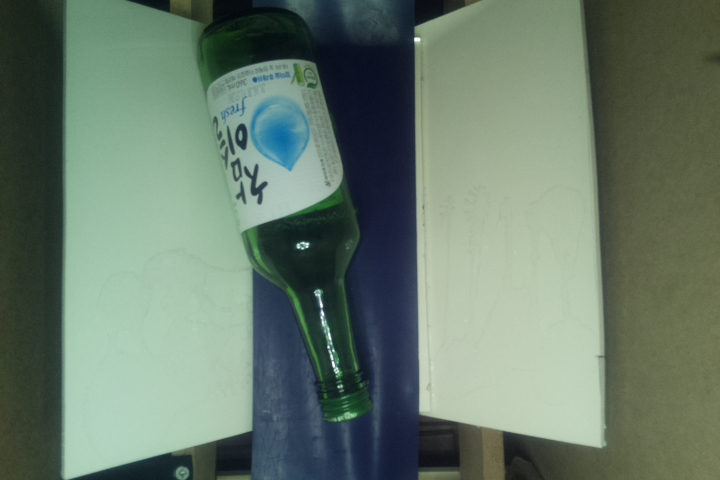soju: (188, 1, 382, 426)
